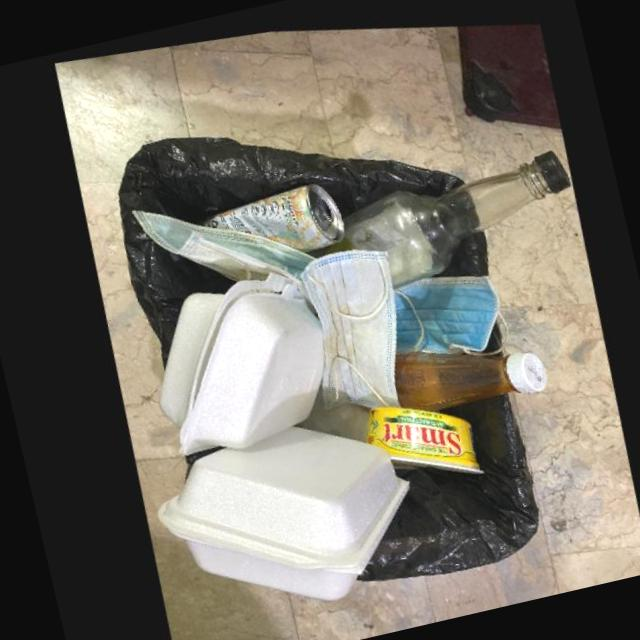chai_thuy_tinh: (300, 142, 564, 282), (385, 346, 537, 407)
hop_nhua: (356, 403, 472, 469)
khau_trang: (293, 244, 391, 408), (127, 208, 308, 278), (386, 269, 500, 349)
nhom: (198, 178, 337, 248)
xop: (145, 424, 399, 600), (149, 269, 315, 455)
